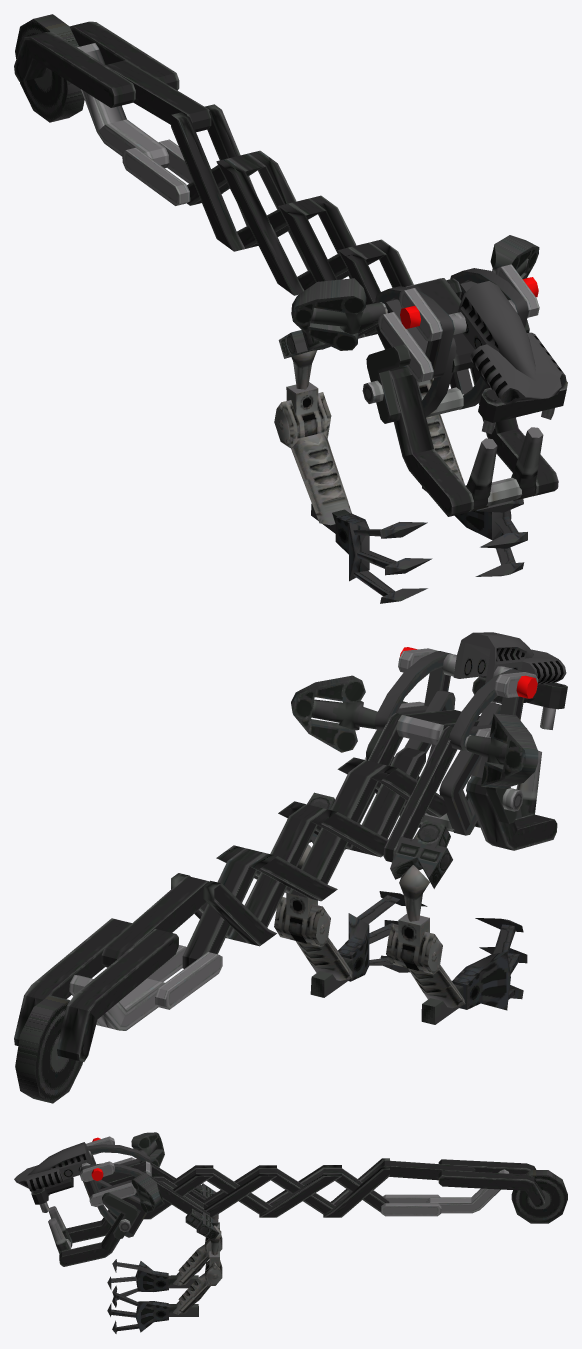
Rendered from wrat.obj.
The picture shows the model from 3 angles, top to bottom: view 1: azimuth 30°, elevation 25°; view 2: azimuth 150°, elevation 25°; view 3: azimuth 270°, elevation 25°; orthographic projection. The views are drawn at different scales.
Size of the model in its own units: 2.51 by 3.18 by 9.17.
